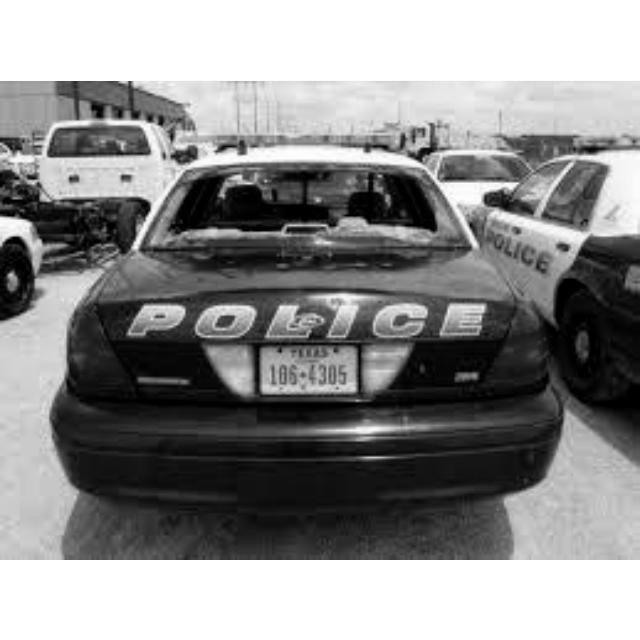Rear-windscreen-Damage: (151, 157, 437, 253)
